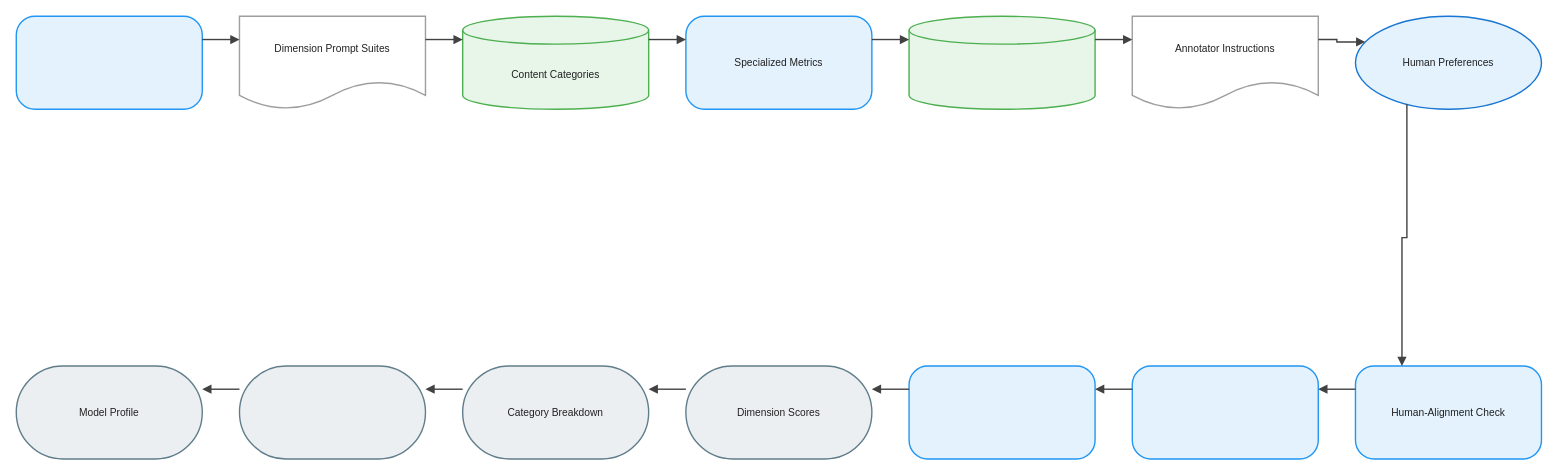
Image size: 1559x476. Some labels were removed from this diagram. Here are the shapes that lost their labels. From the top down, the centre of each, then its label:
pixel 109 62: 16 Dimensions
pixel 1001 62: Common Video Generations
pixel 332 412: Quality + Semantic
pixel 1001 412: 16 Evaluators
pixel 1225 412: Frozen Prompt Run
